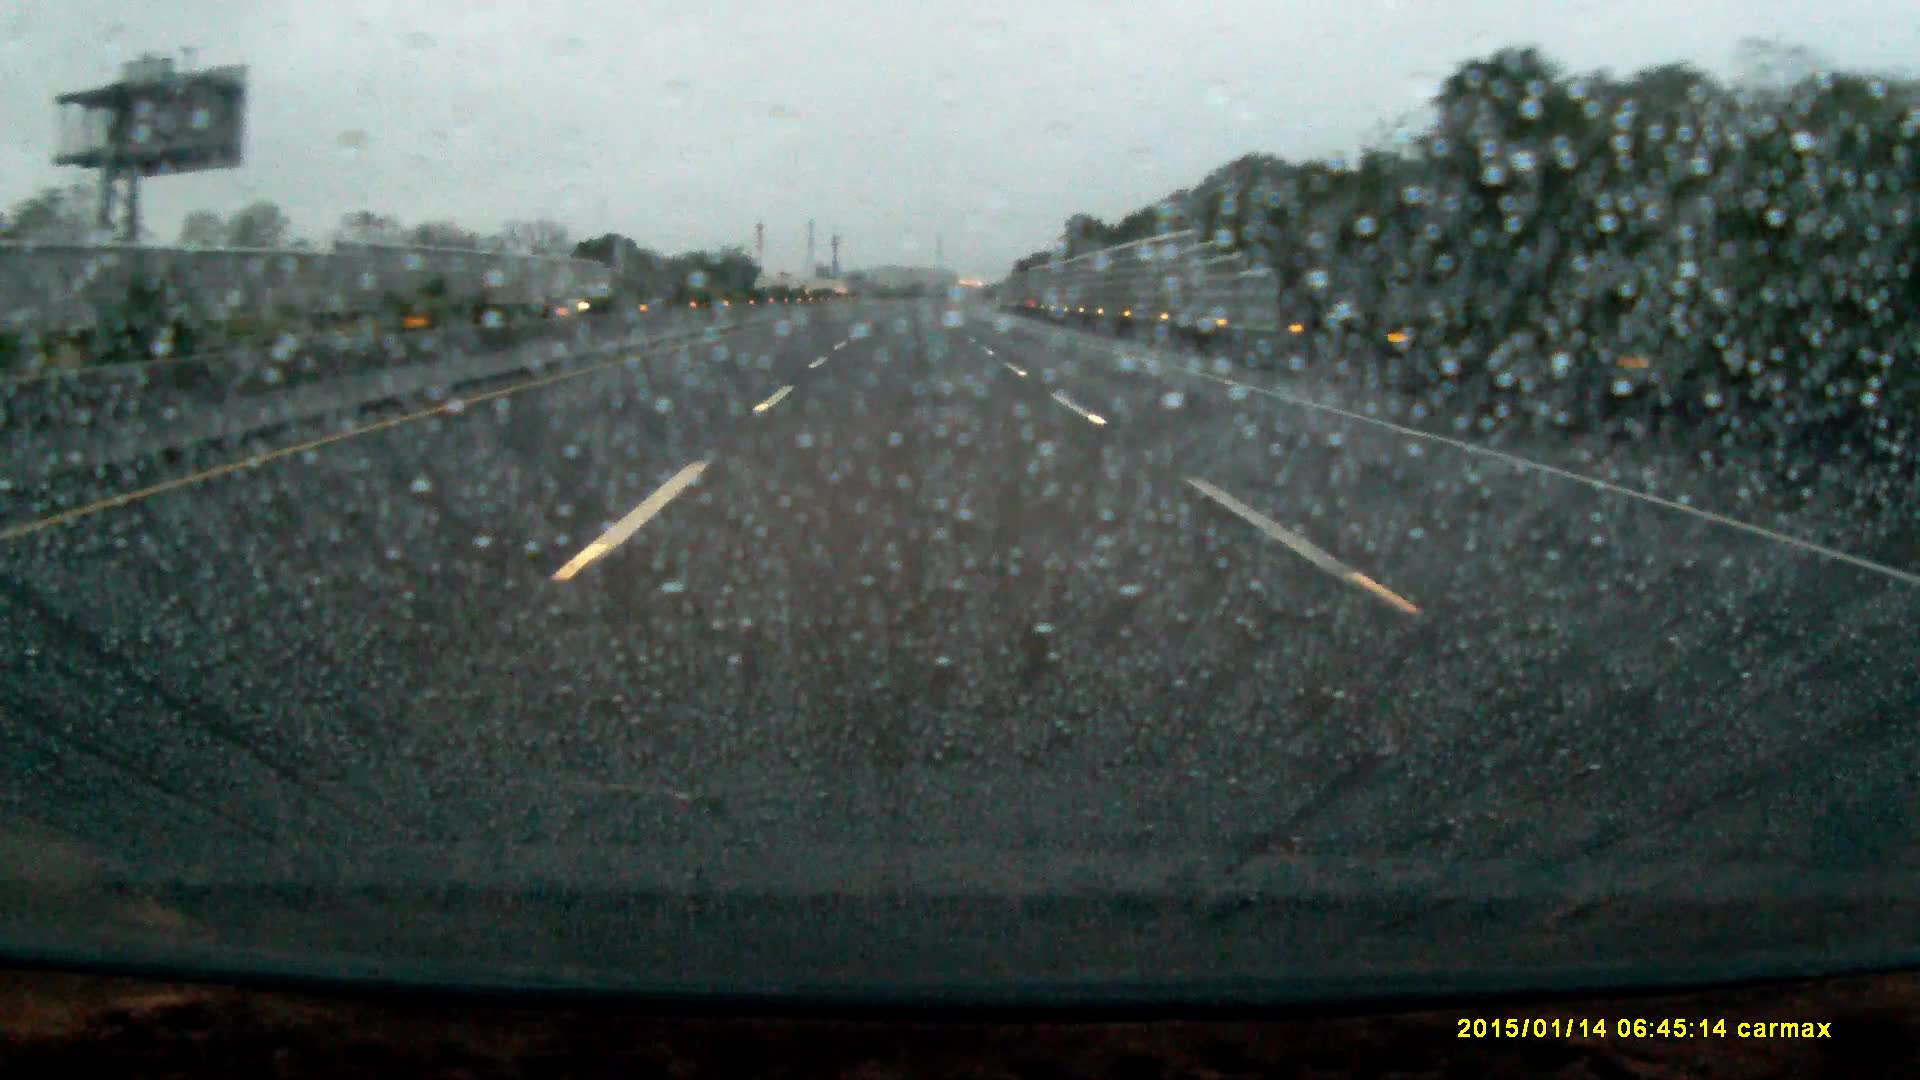vehicle: (549, 284, 609, 313)
